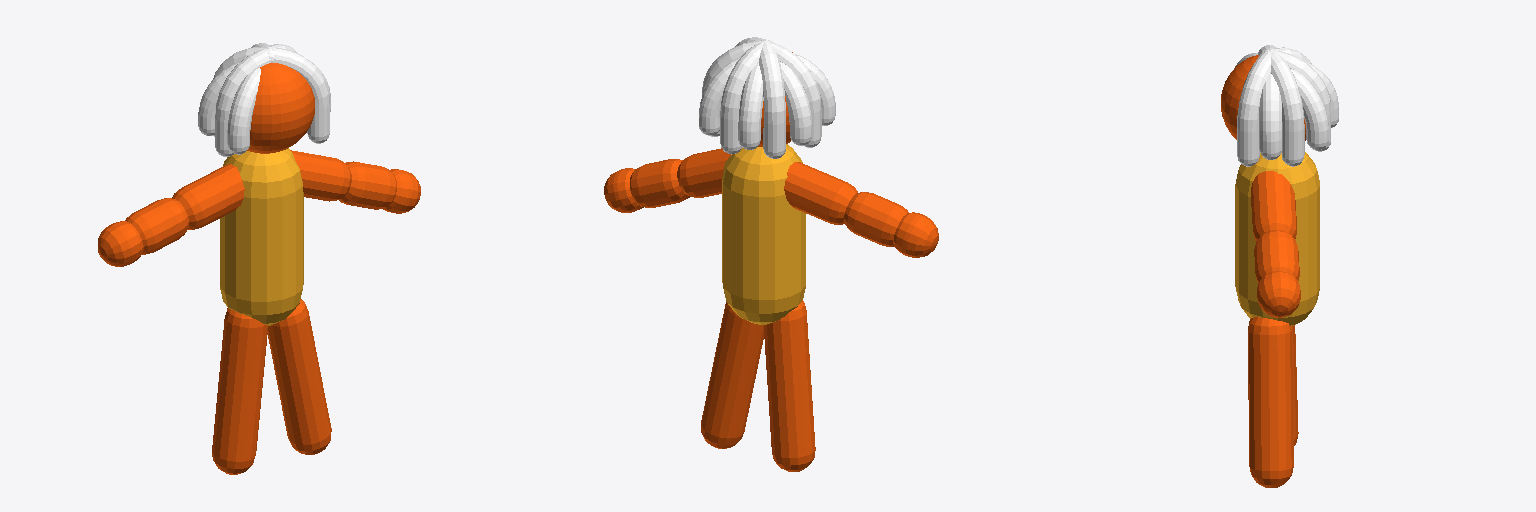
The model's file is newtest.obj.
3 views of the same model, side by side, from view 1: azimuth 30°, elevation 25°; view 2: azimuth 150°, elevation 25°; view 3: azimuth 270°, elevation 25° (orthographic).
Visible parts, largest first — view 1: Capsule, Capsule.6_1, Capsule.7_1, Sphere, Capsule.6_2, Capsule.7_2, Capsule.6, Capsule.7, Capsule.5_9, Capsule.5_1, Capsule.5, Capsule.8_1 (+2 smaller); view 2: Capsule, Capsule.6_1, Capsule.7_1, Capsule.6_2, Capsule.5_3, Capsule.7_2, Capsule.7, Capsule.5_5, Capsule.6, Capsule.5_4, Capsule.8_1, Capsule.5_2 (+5 smaller); view 3: Capsule.7_1, Capsule, Capsule.6, Capsule.5_7, Capsule.5_9, Capsule.7, Capsule.5_8, Capsule.8, Capsule.5_6, Sphere, Capsule.5_5.
Part boxes in pixels (x1,y1,x2,y2): Capsule: (220,148,303,325); Capsule.6_1: (212,308,267,474); Capsule.7_1: (268,299,331,454); Sphere: (247,63,314,153); Capsule.6_2: (172,164,244,229); Capsule.7_2: (125,198,188,254); Capsule.6: (290,150,351,201); Capsule.7: (339,161,396,209); Capsule.5_9: (264,48,329,143); Capsule.5_1: (215,46,272,156); Capsule.5: (227,68,260,154); Capsule.8_1: (98,221,143,266); Capsule: (722,144,805,324); Capsule.6_1: (764,300,815,471); Capsule.7_1: (701,302,763,448); Capsule.6_2: (784,162,857,224); Capsule.5_3: (759,40,785,158); Capsule.7_2: (844,192,908,246); Capsule.7: (630,159,689,207); Capsule.5_5: (720,40,771,154); Capsule.6: (677,148,730,197); Capsule.5_4: (738,63,763,149); Capsule.8_1: (893,212,938,257); Capsule.5_2: (780,62,812,145); Capsule.7_1: (1248,317,1293,487); Capsule: (1235,152,1319,325); Capsule.6: (1251,171,1296,241); Capsule.5_7: (1265,49,1304,166); Capsule.5_9: (1237,49,1275,166); Capsule.7: (1254,230,1299,283); Capsule.5_8: (1259,73,1281,159); Capsule.8: (1257,271,1300,317); Capsule.5_6: (1291,69,1328,149); Sphere: (1221,55,1305,140); Capsule.5_5: (1260,49,1330,151).
Size of the model in its own units: 162 by 200 by 51.52.